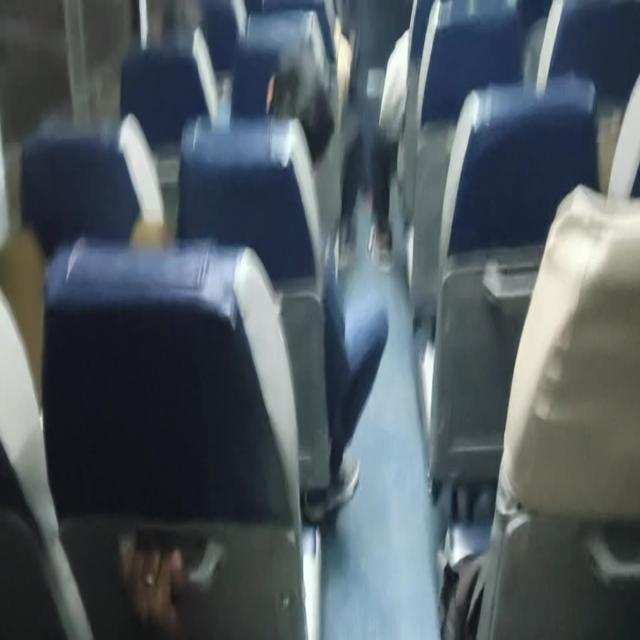person: (256, 59, 336, 161)
